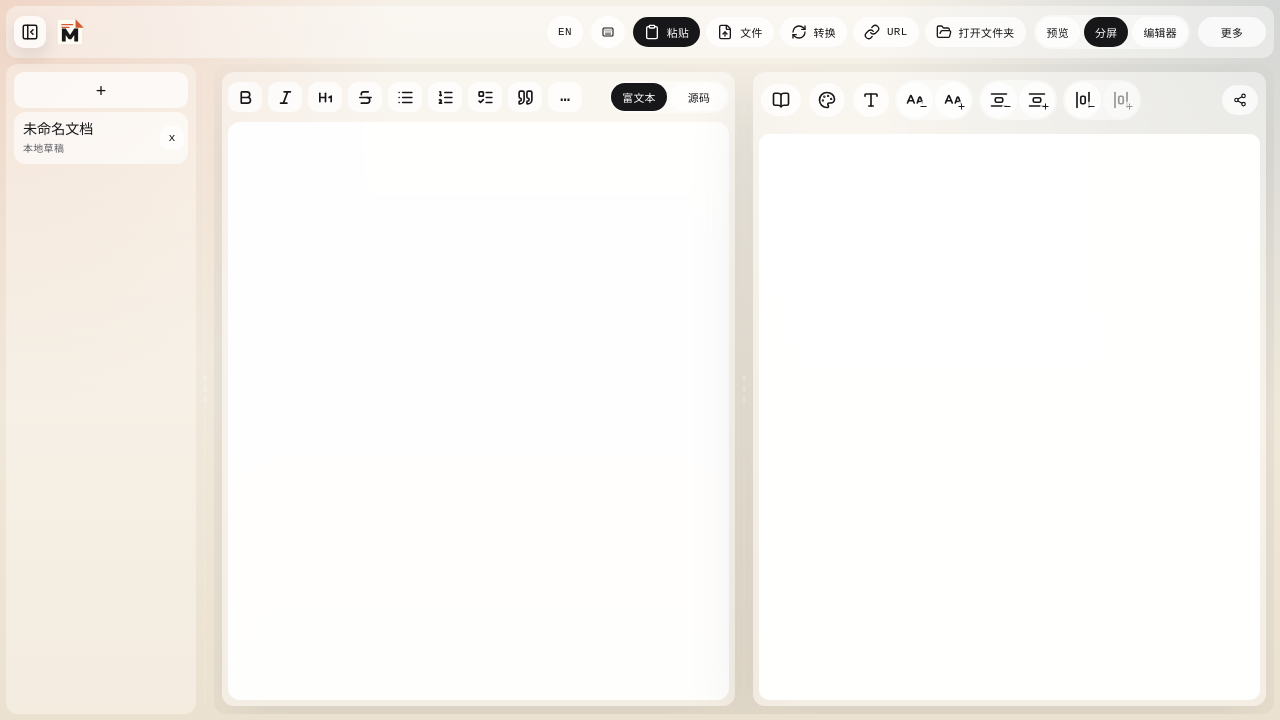
WorkspaceShell interactions › shows a localized folder fallback when the browser does not support directory access
The width and height of the screenshot is (1280, 720).
Click the button "打开文件夹".
click(975, 32)  # box [925, 17, 1026, 47]
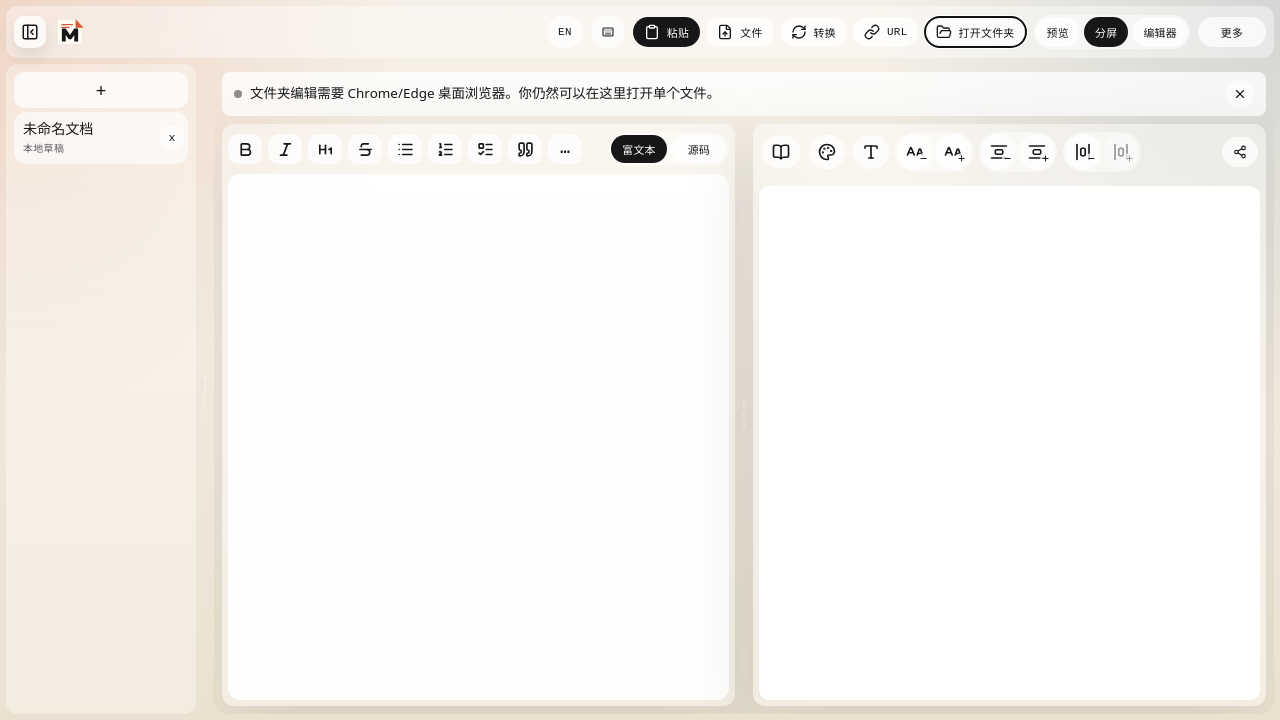
Check: the text "文件夹编辑需要 Chrome/Edge 桌面浏览器。你仍然可以在这里打开单个文件。" is shown, box [250, 84, 720, 102]
